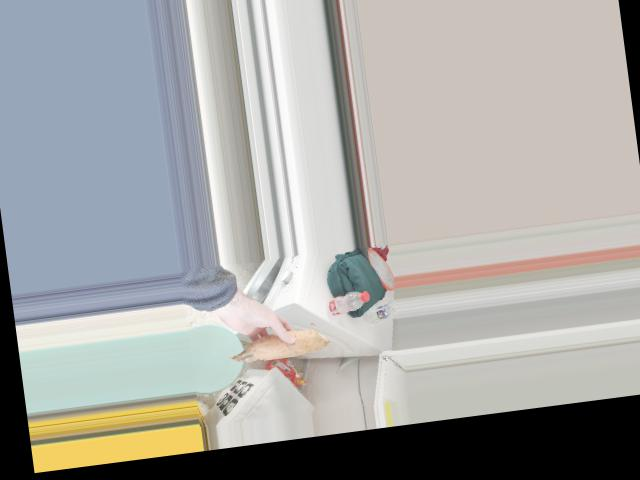sweet_potato: (225, 321, 324, 366)
